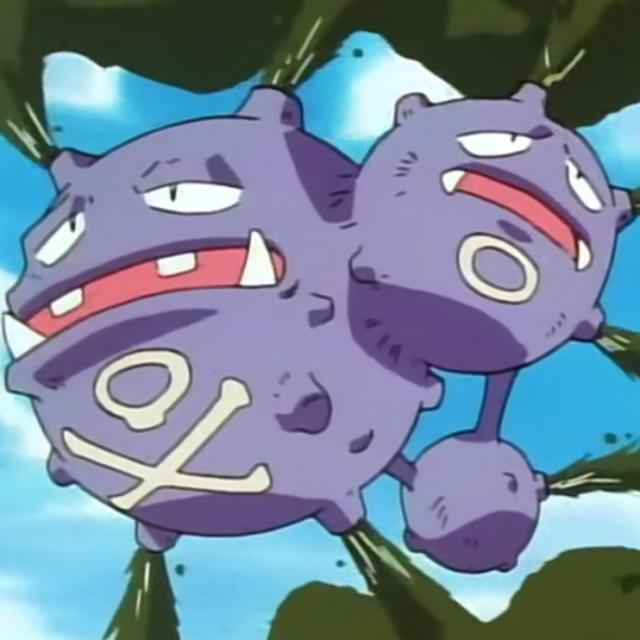Weezing: (0, 76, 598, 568)
